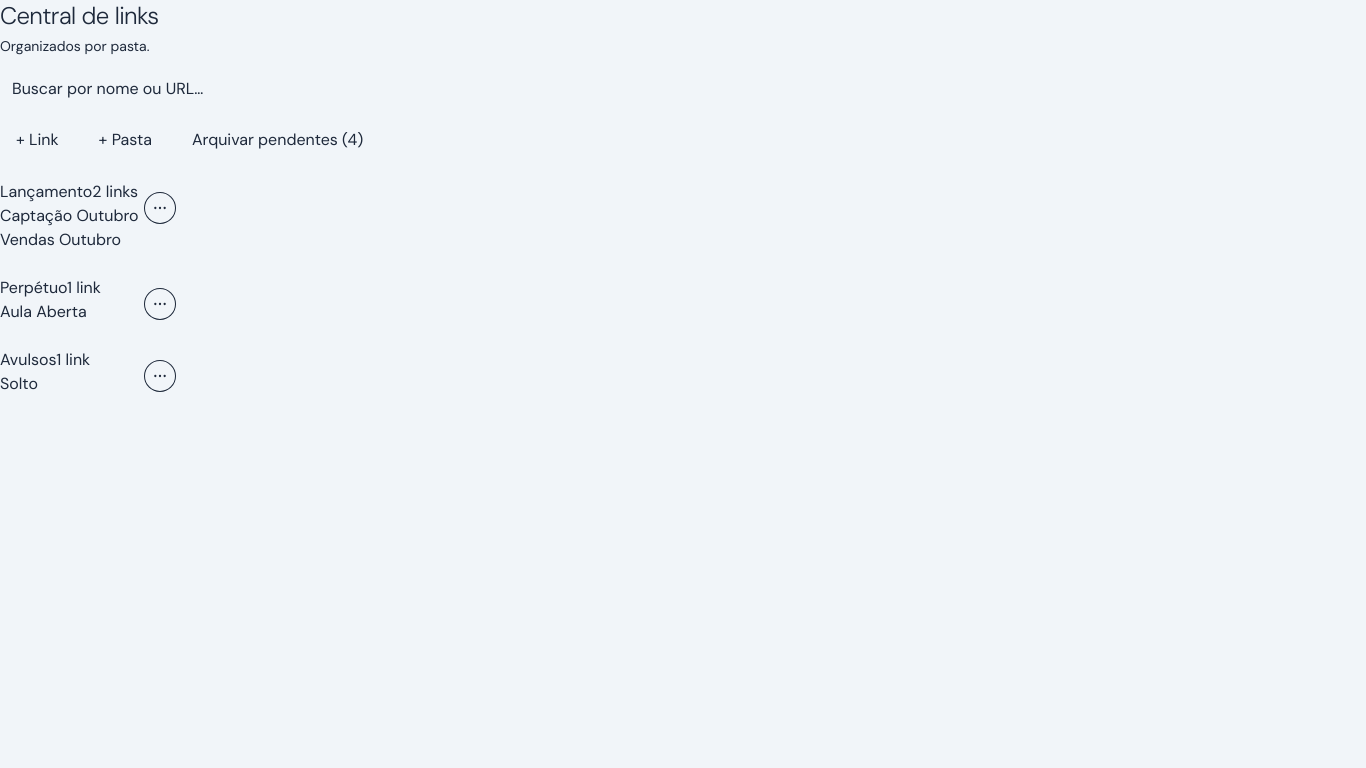
it: Central de links: arquivar um link › falha do servidor aparece inline e o cartão oferece nova tentativa
The image size is (1366, 768).
Check: the element named "Pastas" is shown, box [0,180,176,396]
Step 1. Click the button "Perpétuo1 link" → (50, 288), box [0,276,101,300]
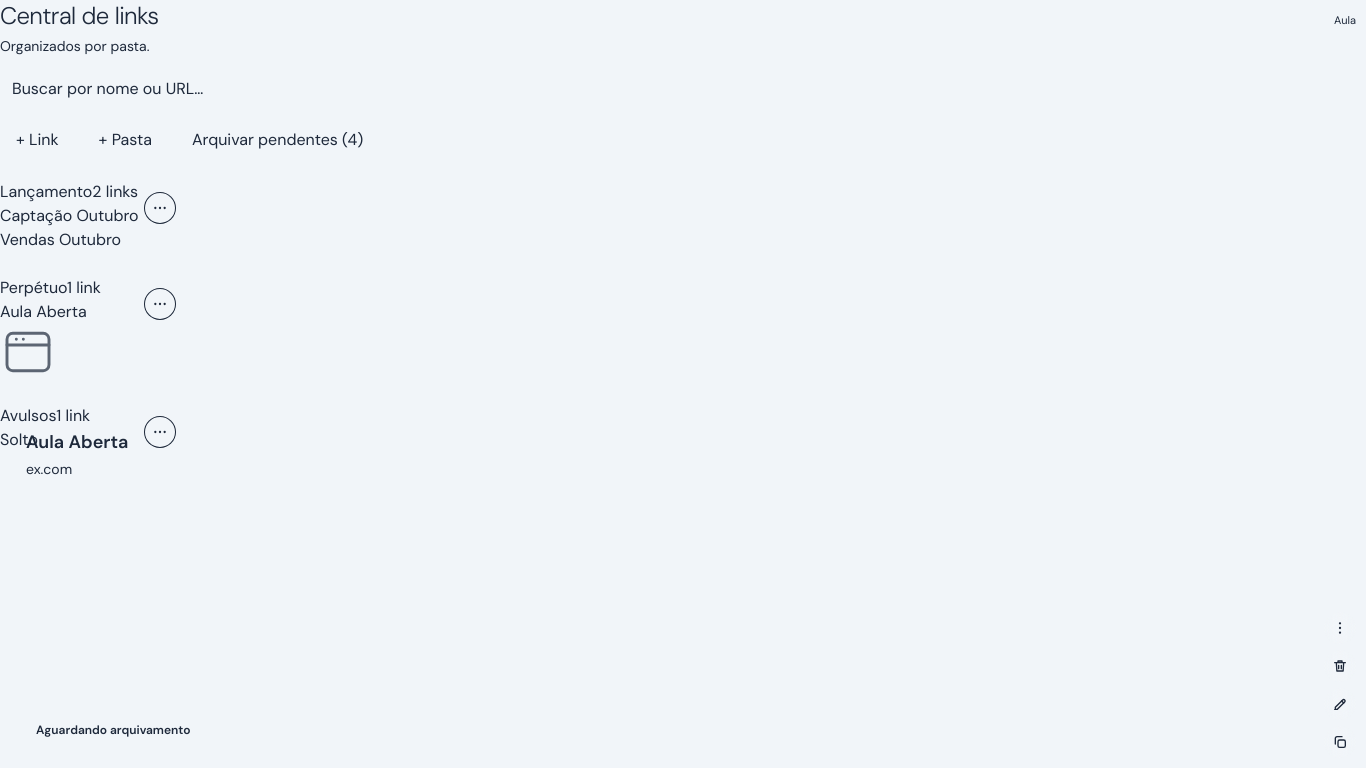
Step 2. Click the button named "Mais ações de Aula Aberta" → (1340, 628), box [1324,612,1356,644]
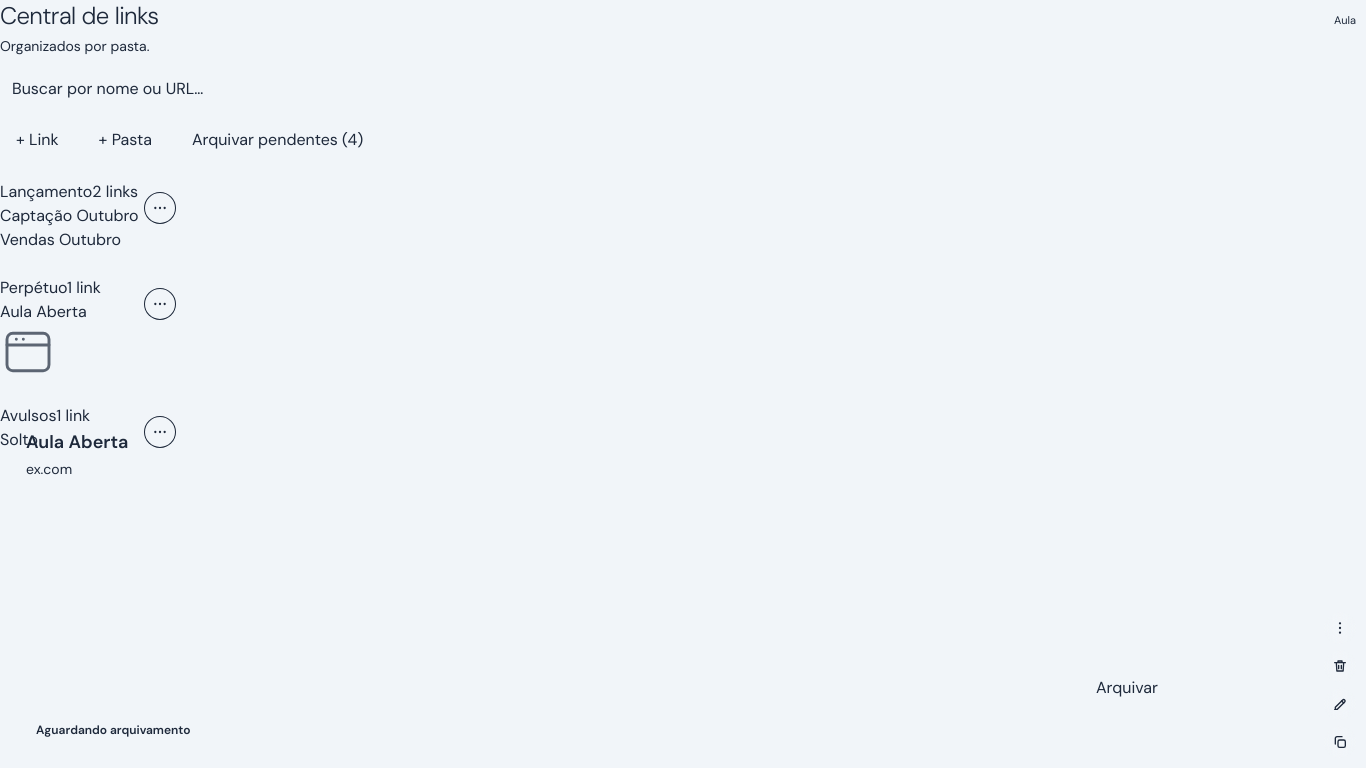
Step 3. Click the button "Arquivar" → (1212, 688), box [1084,668,1340,708]
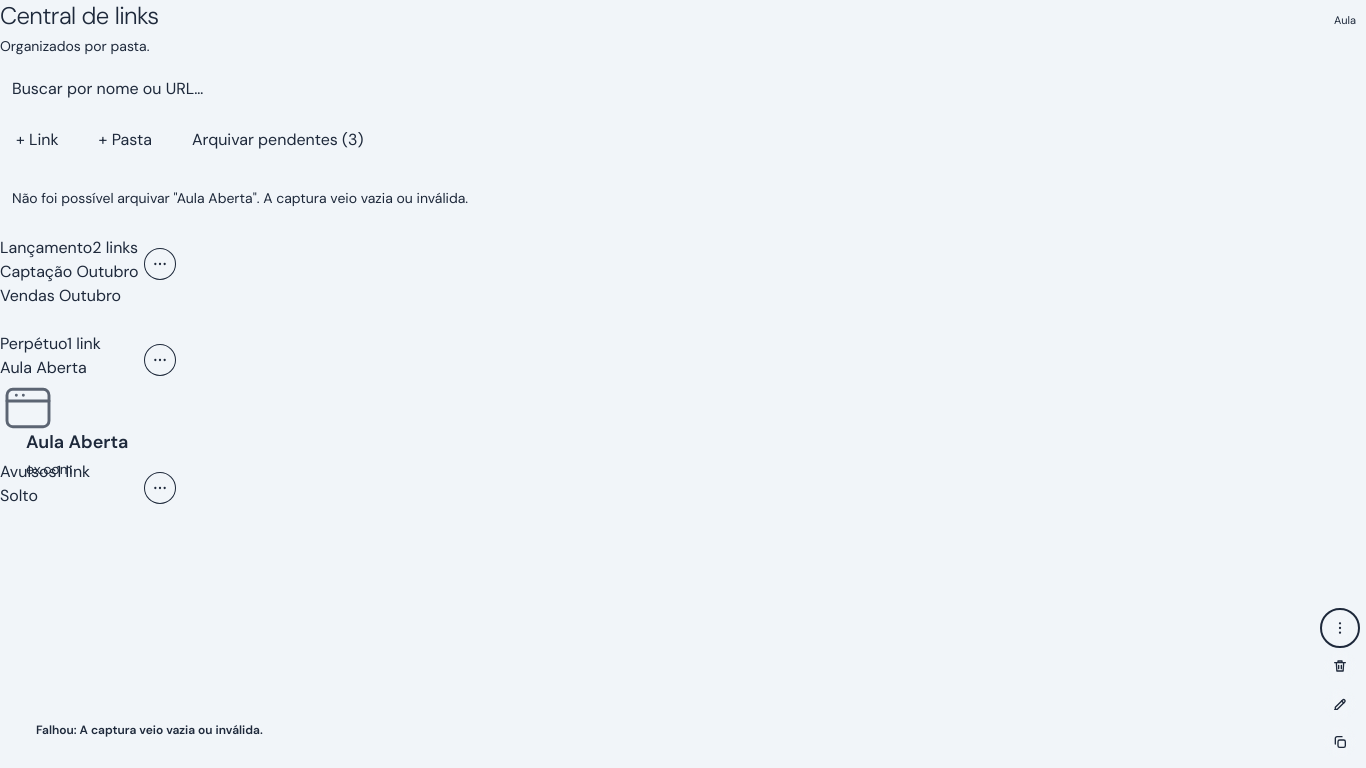
Check: the message shows "A captura veio vazia ou inválida.", box [12,189,468,207]
Step 4. Click the button named "Mais ações de Aula Aberta" → (1340, 628), box [1324,612,1356,644]
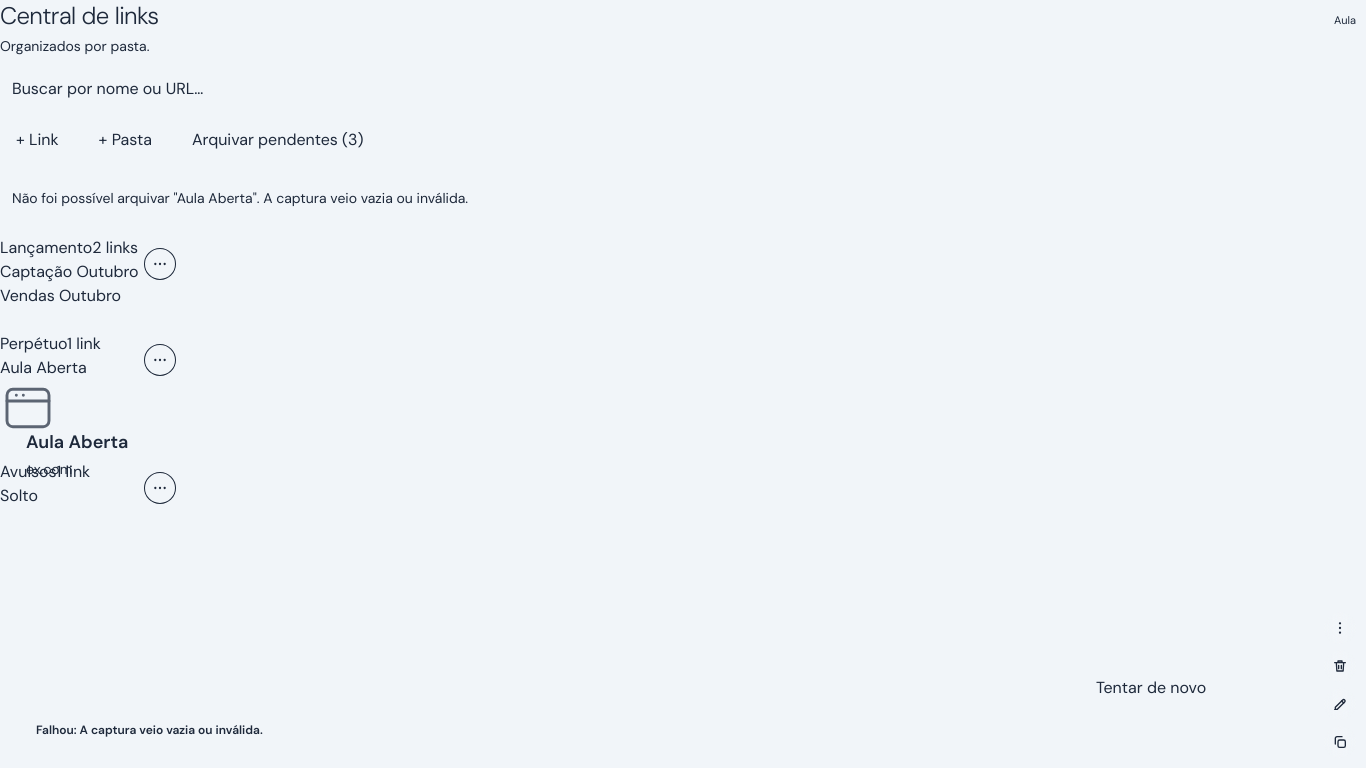
Step 5. Press Escape in the dialog with test id "mais-acoes", box [1084,668,1340,708]
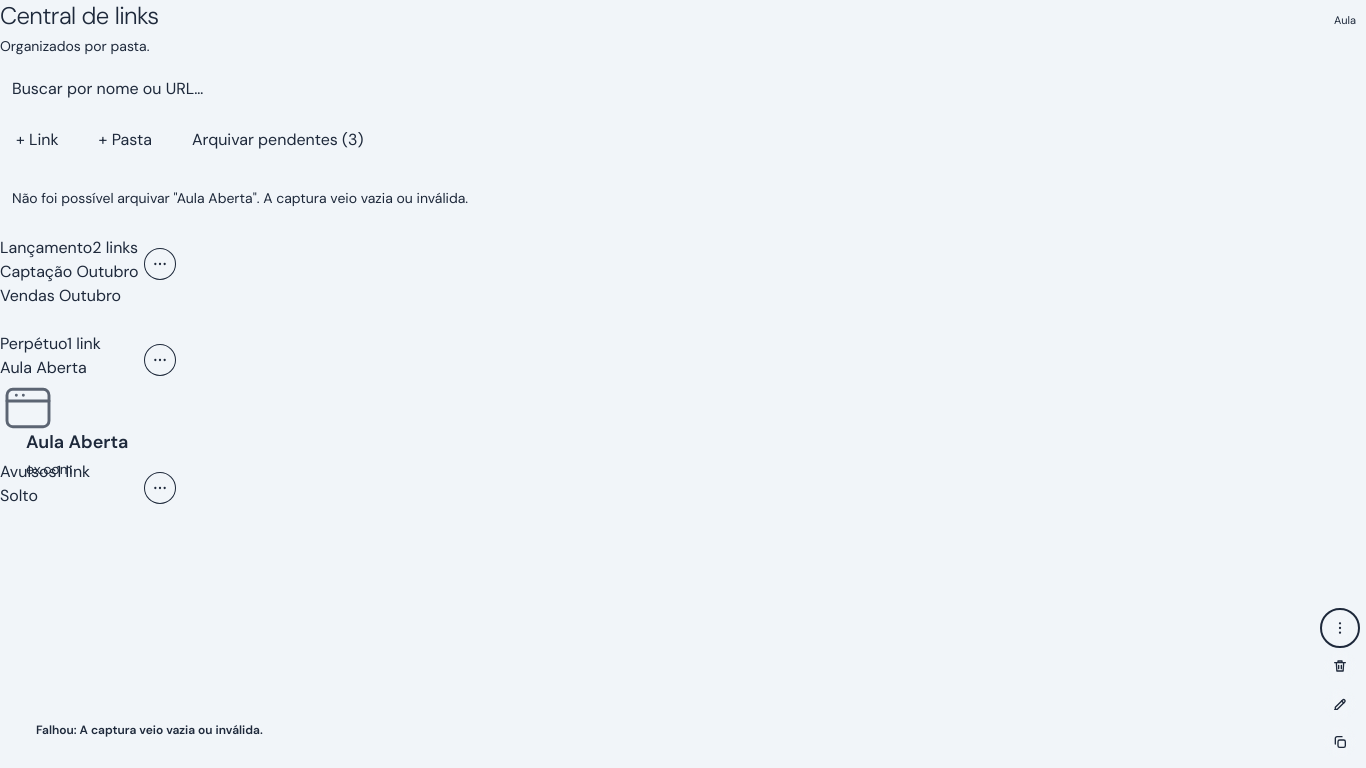
Check: the dialog with test id "mais-acoes" is gone
